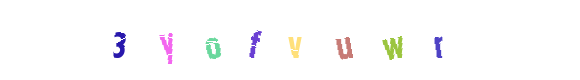3: (80, 0, 160, 80)
F: (250, 0, 330, 80)
O: (173, 0, 253, 80)
R: (353, 0, 433, 80)
U: (279, 0, 359, 80)
V: (263, 0, 343, 80)
W: (305, 0, 385, 80)
Y: (160, 0, 240, 80)
